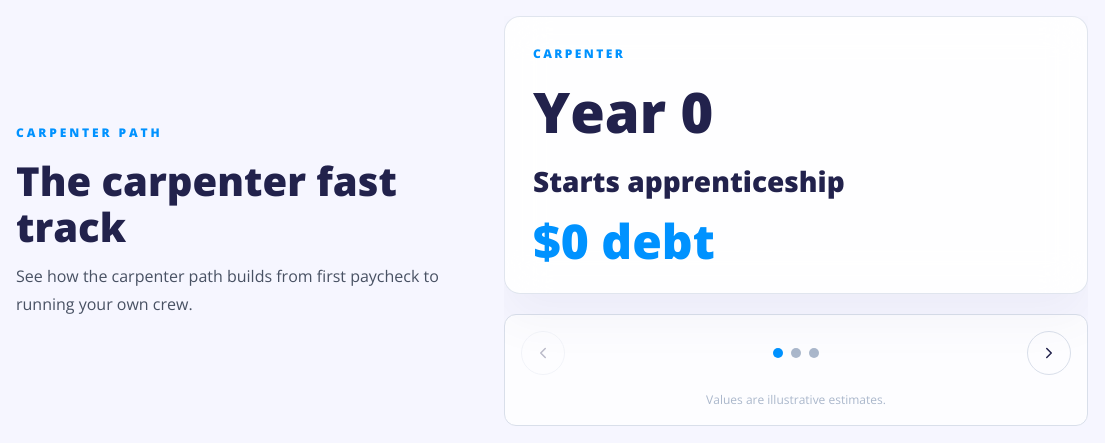
ScreenSpeedRun › allows direct milestone selection through step dots
Click the button named "Show comparison year 3": {"x": 814, "y": 353} [809,348,819,358]
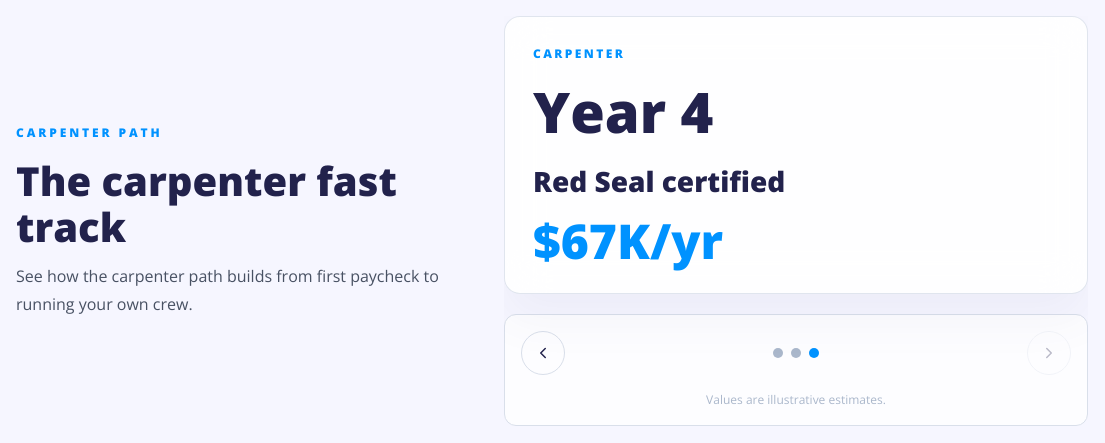
Check: the text "Red Seal certified" is shown, box [533,162,785,200]
Check: the text "$67K/yr" is shown, box [533,208,723,273]
